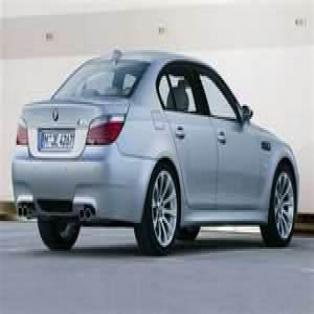Auto: (10, 48, 302, 260)
